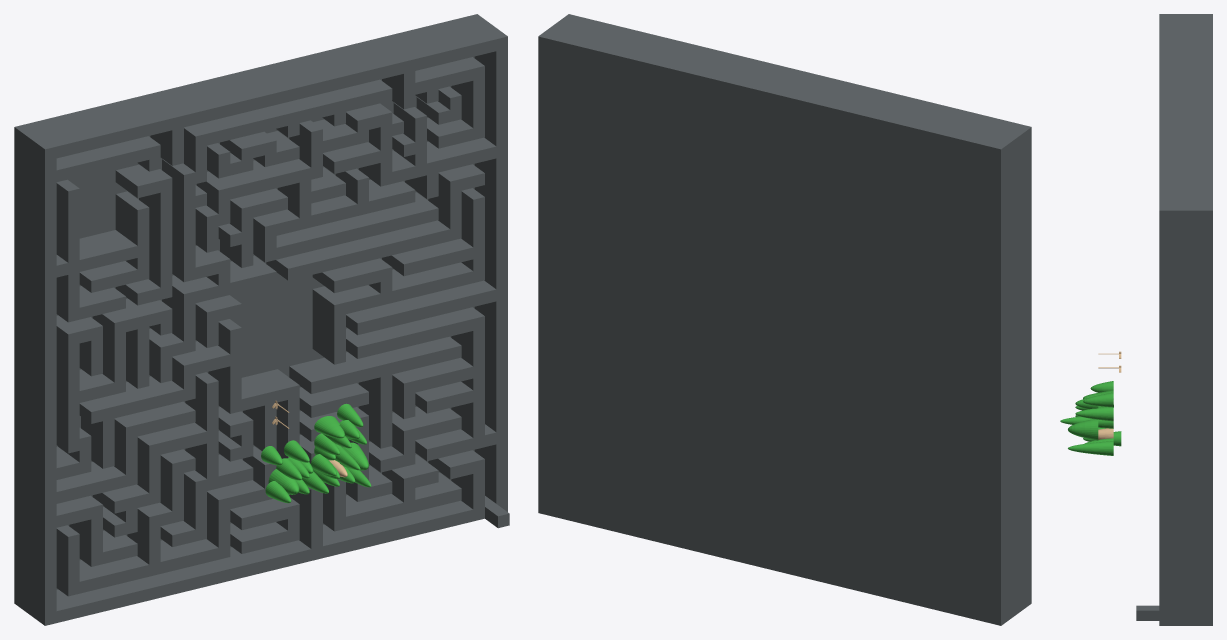
The model's file is tinker.obj.
3 views of the same model, side by side, from view 1: azimuth 30°, elevation 25°; view 2: azimuth 150°, elevation 25°; view 3: azimuth 270°, elevation 25° (orthographic). The views are drawn at different scales.
Parts seen in each view (by area): view 1: group_0_-10393750, group_0_-12142775; view 2: group_0_-10393750; view 3: group_0_-10393750, group_0_-12142775, group_0_-1916779.
Part boxes in pixels (x1,y1,x2,y2): group_0_-10393750: (14, 14, 509, 625); group_0_-12142775: (261, 403, 371, 503); group_0_-10393750: (538, 14, 1031, 625); group_0_-10393750: (1136, 14, 1212, 625); group_0_-12142775: (1060, 381, 1121, 455); group_0_-1916779: (1098, 351, 1121, 439).
Size of the model in its own units: 61 by 60 by 20.
